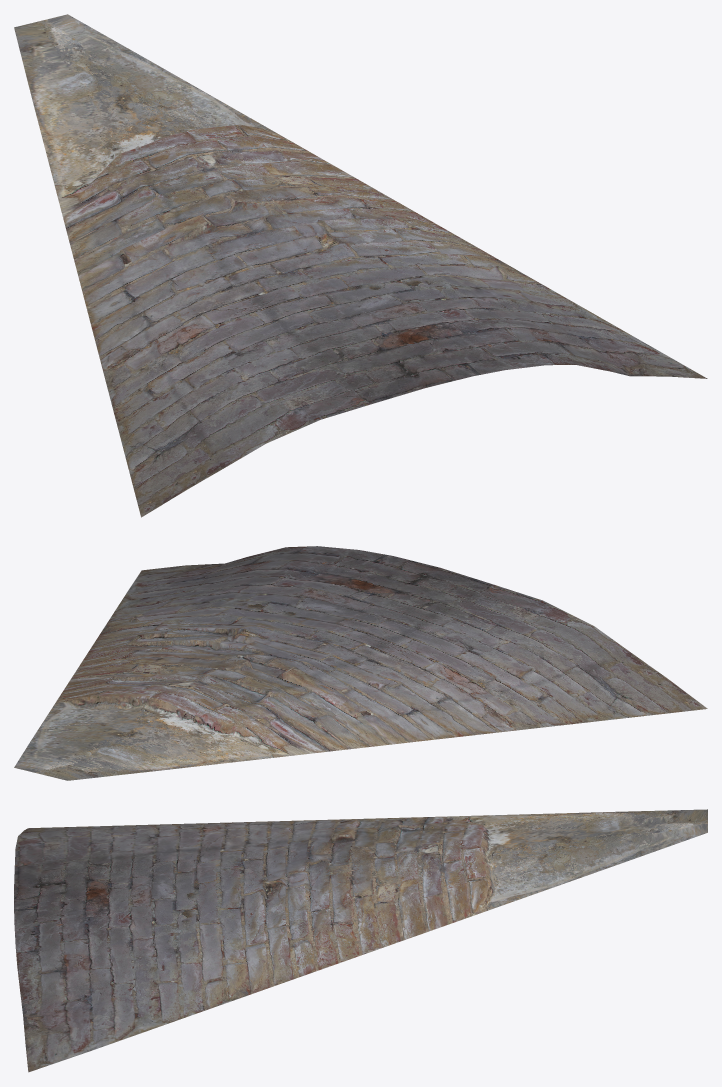
File: SM_CryptCeiling_02_02.fbx
3 views of the same model, one above another, from view 1: azimuth 30°, elevation 25°; view 2: azimuth 150°, elevation 25°; view 3: azimuth 270°, elevation 25° (orthographic). The views are drawn at different scales.
Parts seen in each view (by area): view 1: sm_CryptCeiling_02_02_LOD0; view 2: sm_CryptCeiling_02_02_LOD0; view 3: sm_CryptCeiling_02_02_LOD0.
Part boxes in pixels (box(x1,y1,x2,y2)): sm_CryptCeiling_02_02_LOD0: box(14, 14, 707, 517); sm_CryptCeiling_02_02_LOD0: box(14, 546, 707, 780); sm_CryptCeiling_02_02_LOD0: box(14, 809, 707, 1072).
Bounding box in the file's own units: 300 × 251 × 61.86.
